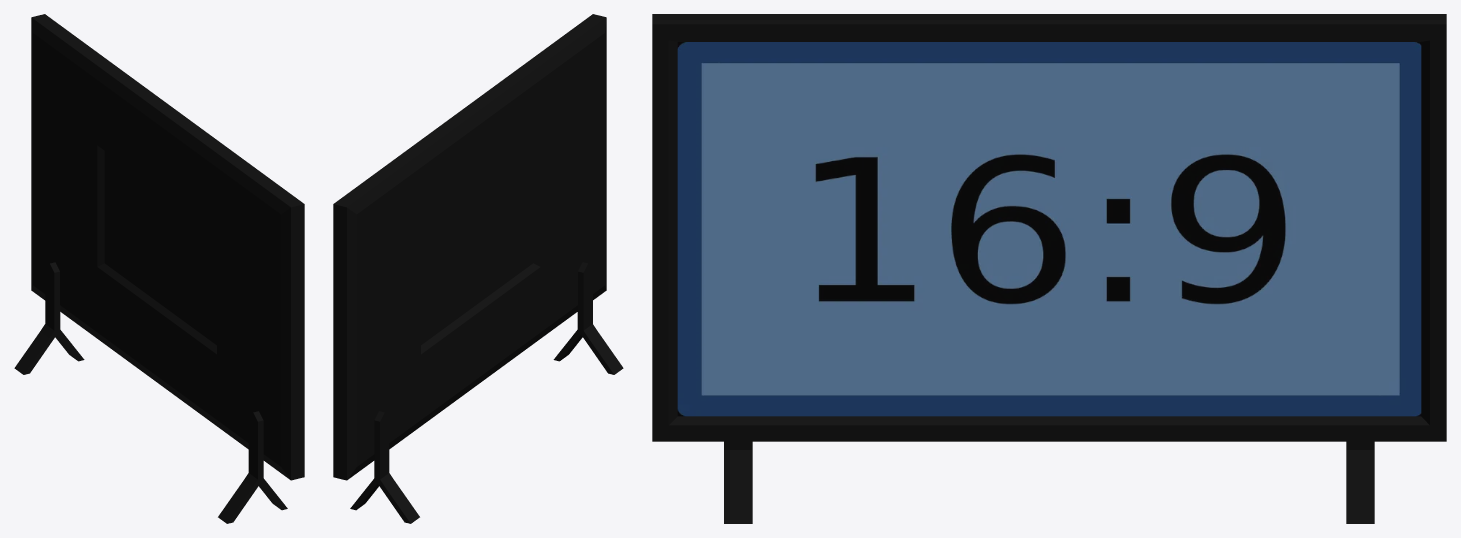
The picture shows the model from 3 angles, left to right: view 1: azimuth 30°, elevation 25°; view 2: azimuth 150°, elevation 25°; view 3: azimuth 270°, elevation 25°; orthographic projection. The views are drawn at different scales.
Parts seen in each view (by area): view 1: Cube.001_Material_0; view 2: Cube.001_Material_0; view 3: Cube.001_Material.001_0, Cube.001_Material_0.
Boxes of the visible parts, x1=… form: Cube.001_Material_0: x1=14, y1=14, x2=304, y2=523; Cube.001_Material_0: x1=333, y1=14, x2=623, y2=523; Cube.001_Material.001_0: x1=677, y1=42, x2=1421, y2=416; Cube.001_Material_0: x1=652, y1=14, x2=1446, y2=523.
Size of the model in its own units: 0.545 by 2.77 by 4.02.
Materials: 2 (1 with a texture image).
